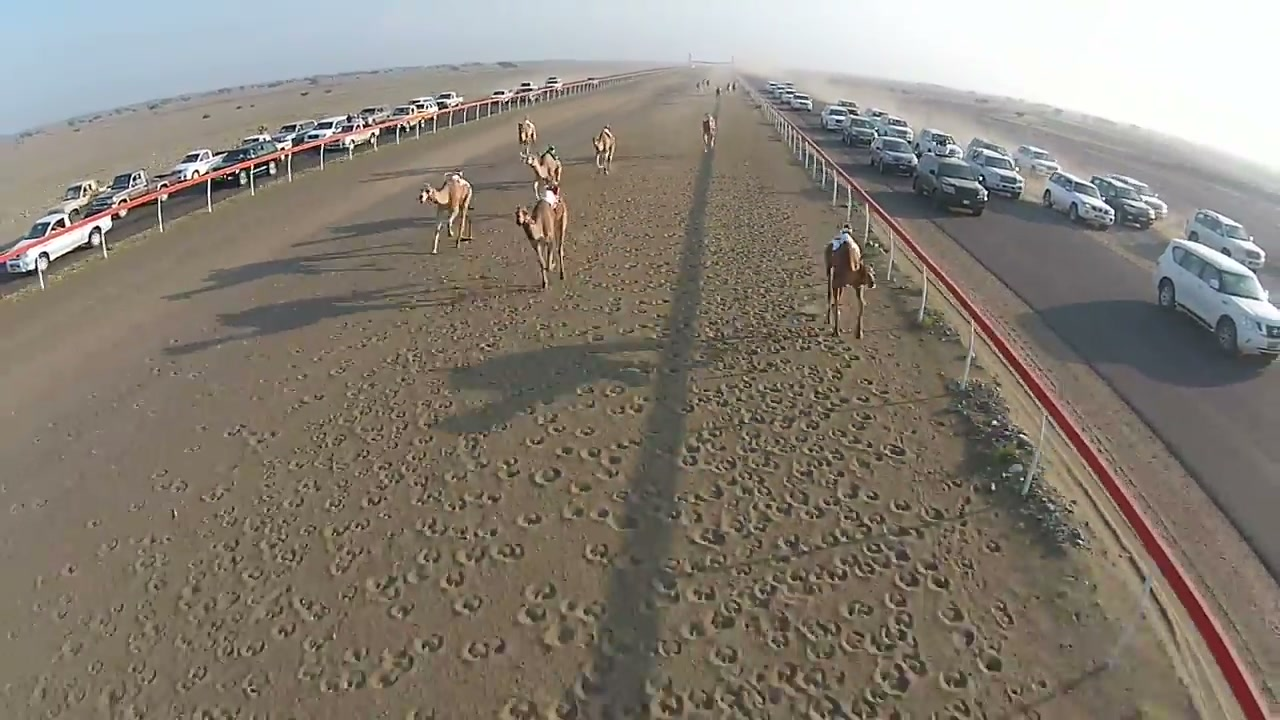animal_foot_print: (0, 97, 1119, 719)
